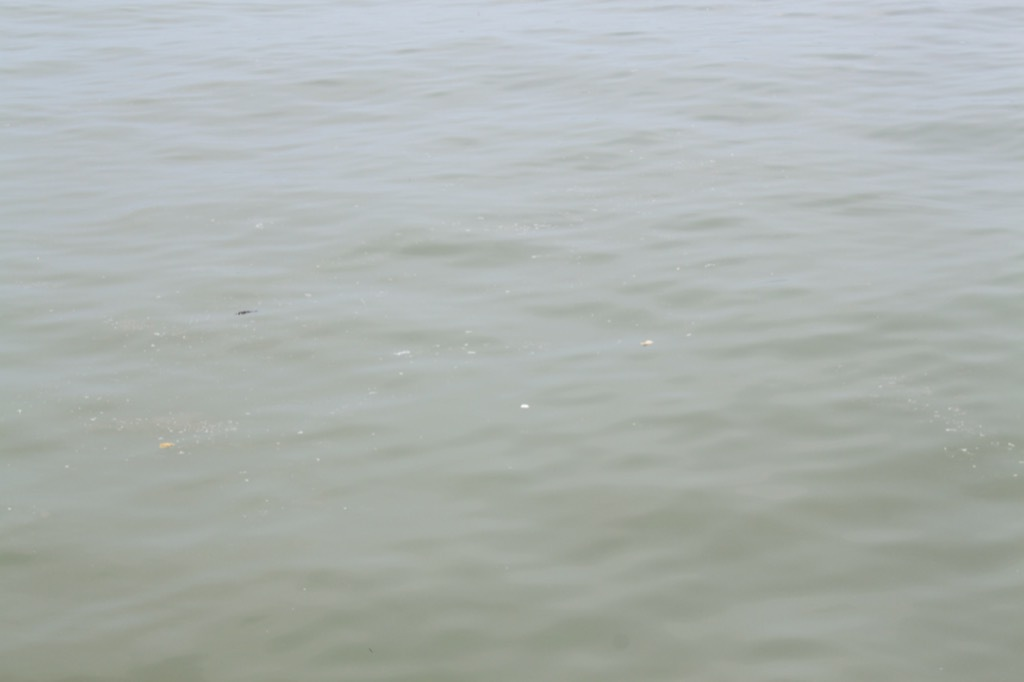organic: (222, 299, 269, 325)
plastic: (145, 424, 194, 462), (622, 325, 666, 353), (506, 393, 545, 419)
